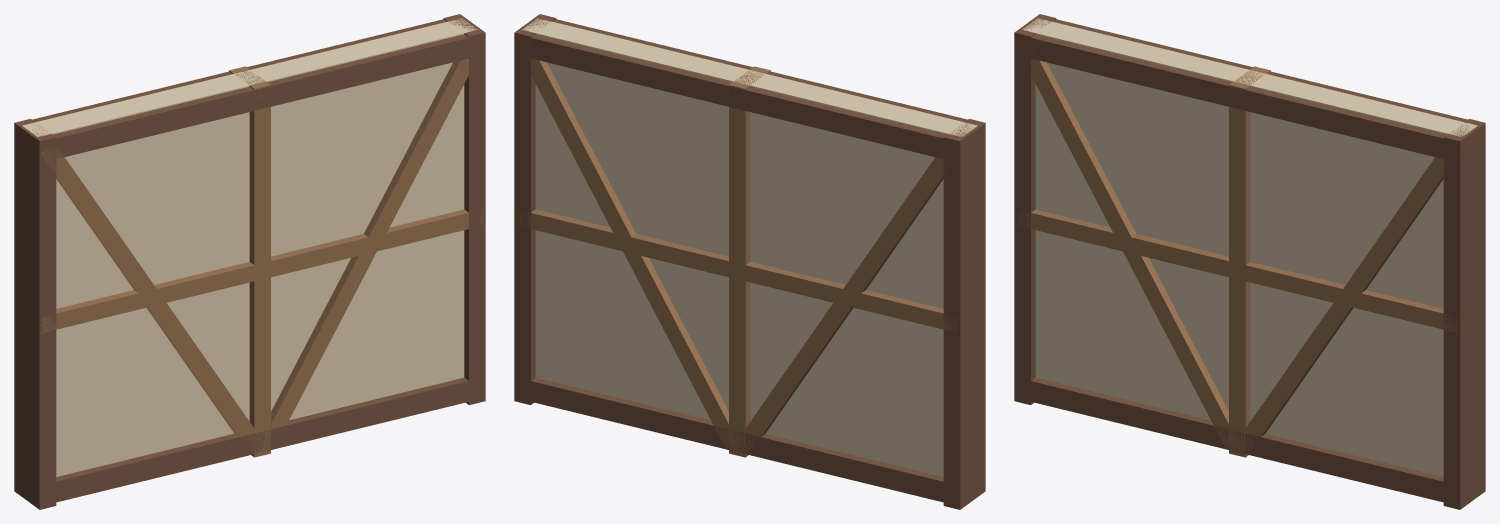
Rendered from tavern_wall_solid.glb.
3 views of the same model, side by side, from view 1: azimuth 30°, elevation 25°; view 2: azimuth 150°, elevation 25°; view 3: azimuth 330°, elevation 25° (orthographic).
Parts seen in each view (by area): view 1: tavern_wall_solid_Mesh; view 2: tavern_wall_solid_Mesh; view 3: tavern_wall_solid_Mesh.
Part boxes in pixels (x1,y1,x2,y2): tavern_wall_solid_Mesh: [14, 14, 485, 509]; tavern_wall_solid_Mesh: [514, 14, 985, 509]; tavern_wall_solid_Mesh: [1014, 14, 1485, 509].
Size of the model in its own units: 4.05 by 3.2 by 0.4.
